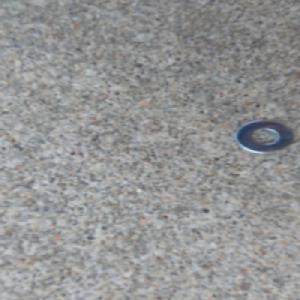Washer: (228, 116, 296, 155)
